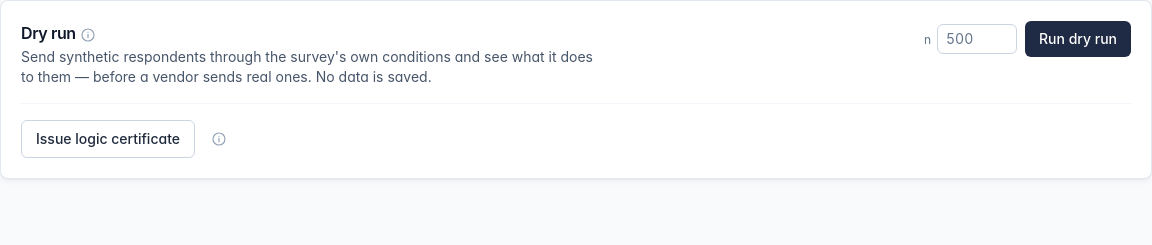
Scenario: DryRunPanel certificate › lists the blockers when not issued
Click the button "Issue logic certificate" at (108, 139), box [21,120,195,158]
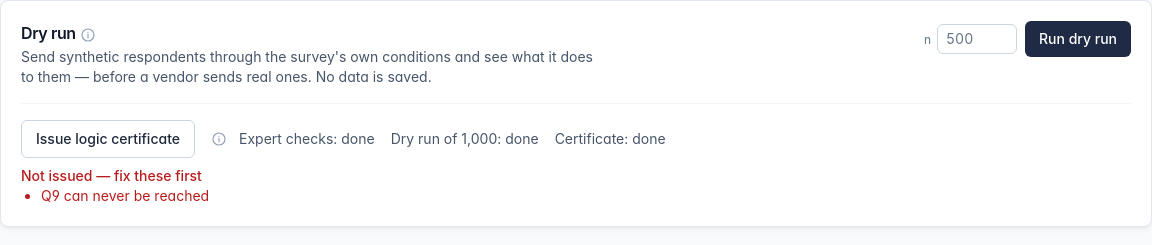
Expected: the text "Not issued — fix these first" is shown, [21,167,202,184]
Expected: the list item "Q9 can never be reached" is shown, [41,187,209,204]
